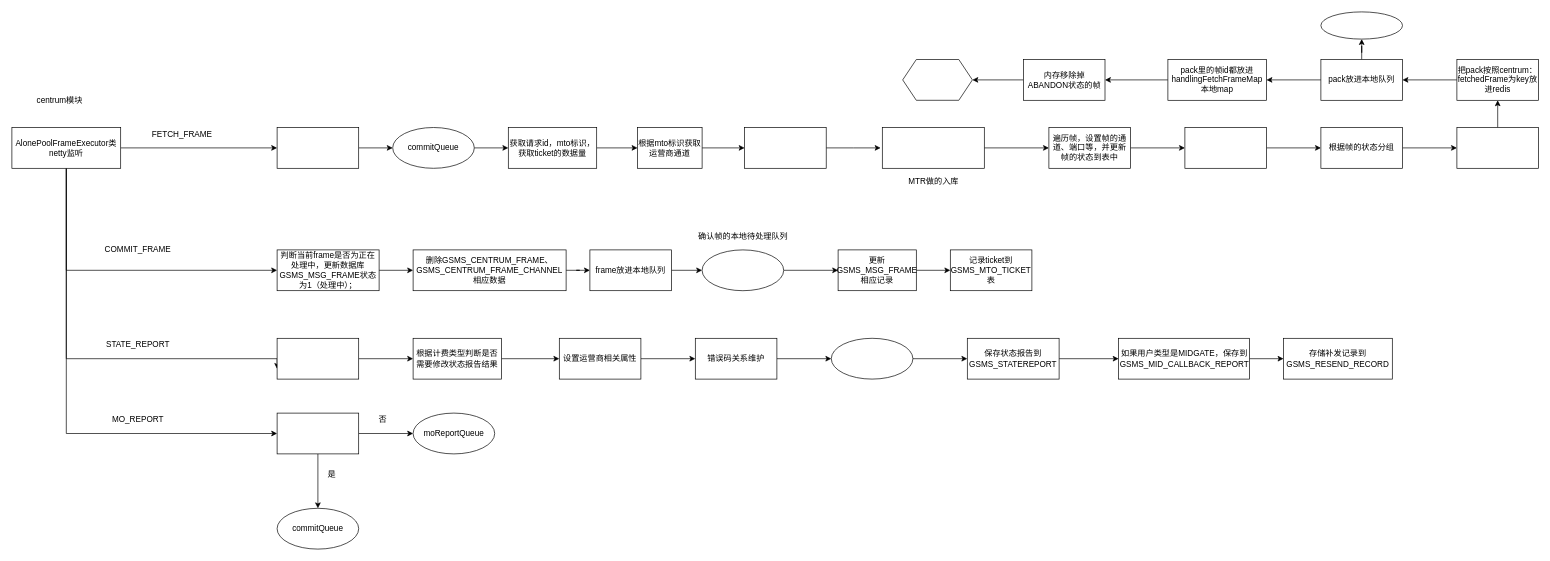
This 1550x561 diagram has some shape labels left out. Each missing label, with the box of its shape:
commitFrameQueue: (701, 249, 784, 291)
fetchFrameQueue: (1320, 11, 1402, 39)
HADNLE状态（处理中）的帧组装为pack: (1456, 127, 1538, 168)
netty返回给MTO: (902, 59, 972, 100)
reportQueue: (831, 338, 913, 379)
把MTO发过来取帧的请求先放到本地队列: (276, 127, 359, 168)
根据帧ID从GSMS_CENTRUM_FRAME获取帧数据: (882, 127, 984, 168)
根据数据库信息和帧的状态，将帧状态更新为over（已发送）: (1184, 127, 1266, 168)
根据运营商通道，查出待发送数据量: (744, 127, 826, 168)
检查用户补发状态: (276, 338, 359, 379)
缓存可用状态？: (276, 412, 359, 454)
